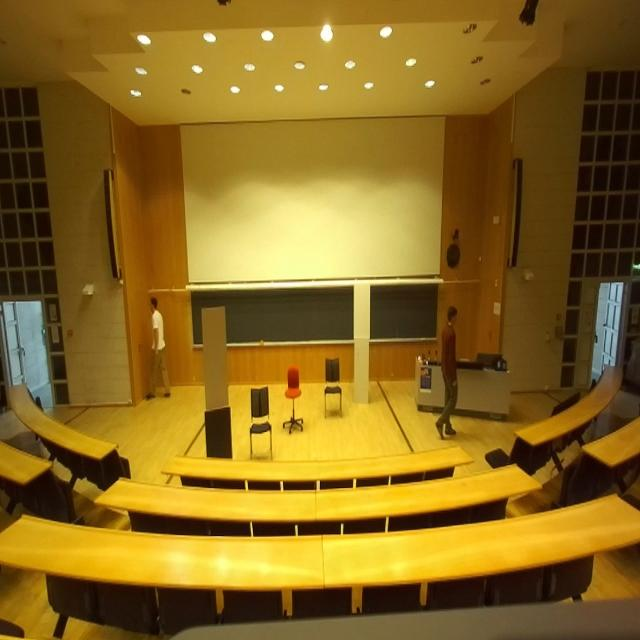person: (434, 306, 458, 440), (146, 297, 171, 399)
